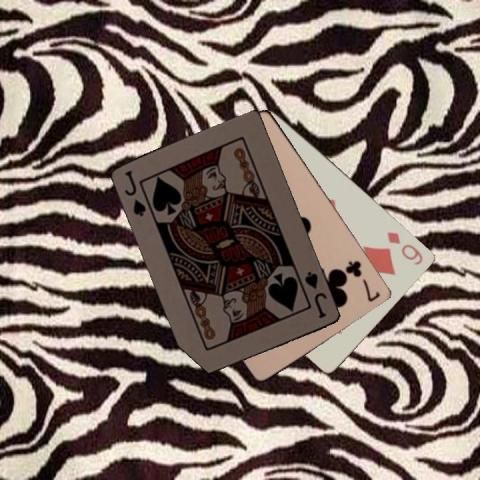6d: (384, 228, 425, 266)
7c: (344, 257, 382, 304)
Js: (301, 269, 329, 320), (122, 167, 148, 219)
